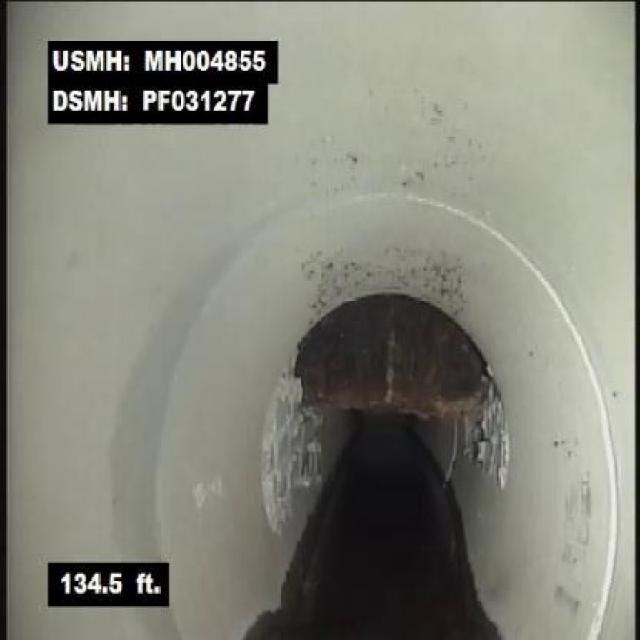Utility intrusion: (280, 269, 500, 448)
